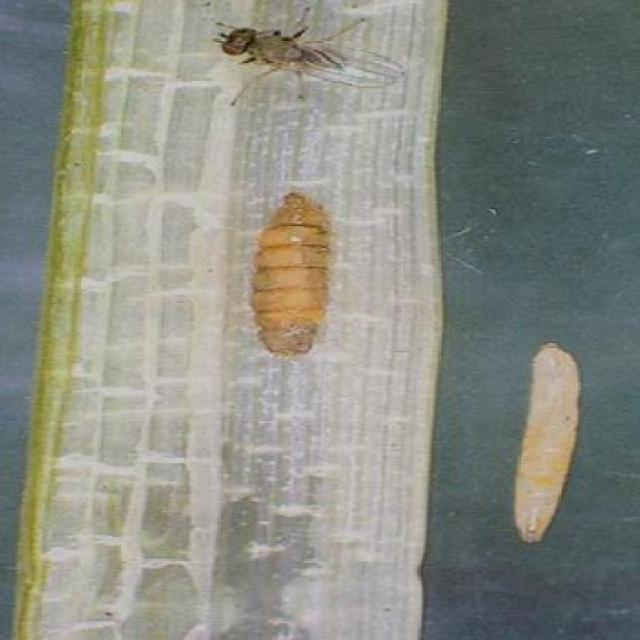whorl-maggot: (486, 332, 594, 550), (230, 180, 341, 369)
